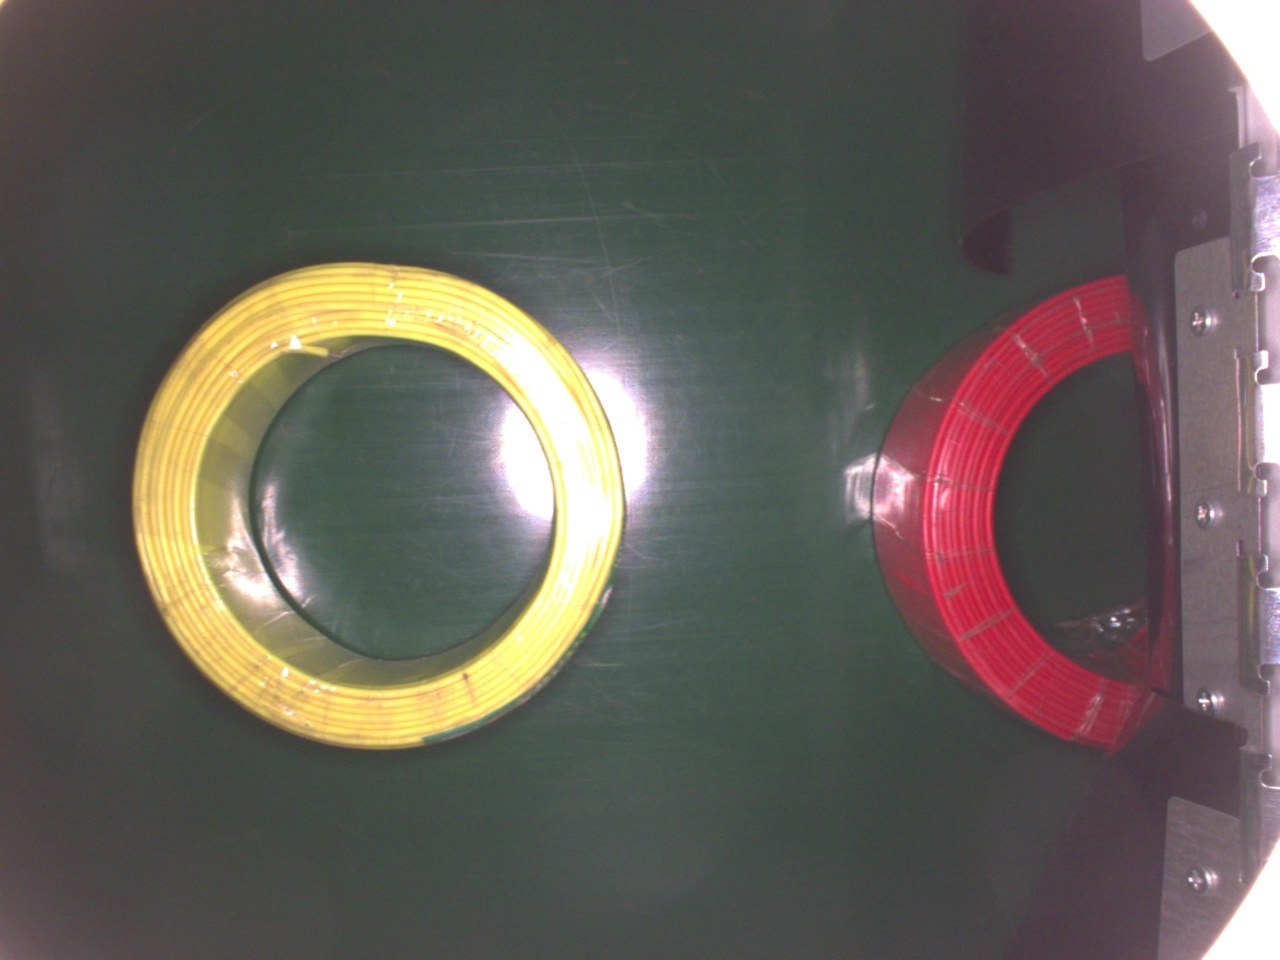red: (868, 271, 1140, 753)
yellow: (132, 256, 626, 746)
